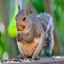squirrel: (15, 4, 55, 60)
